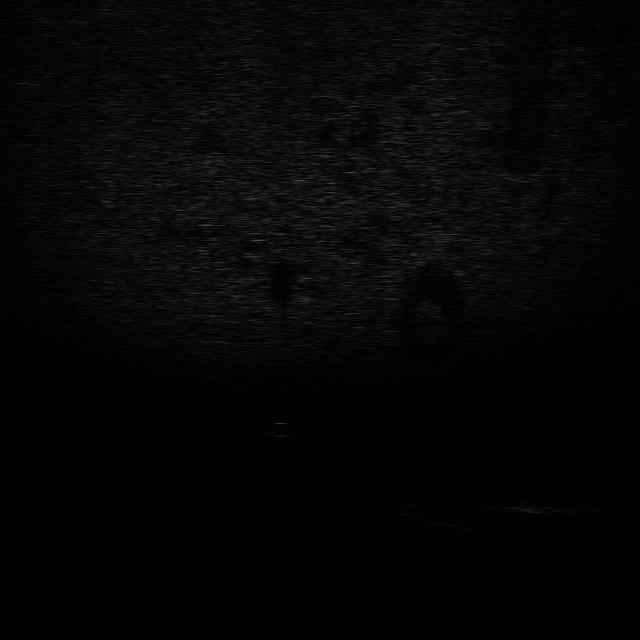ball: (260, 417, 302, 439)
metal bucket: (490, 497, 582, 518)
tyre: (394, 500, 470, 530)
